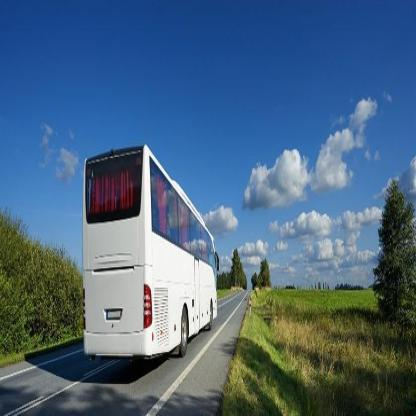Bus: (79, 142, 220, 381)
